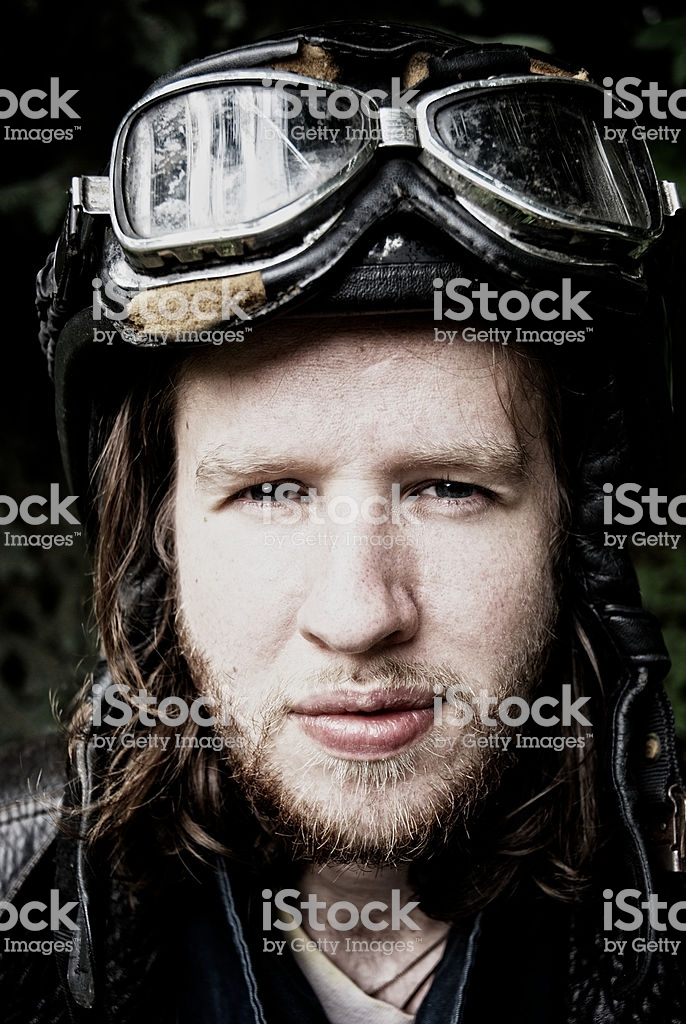helmet: (93, 42, 653, 373)
